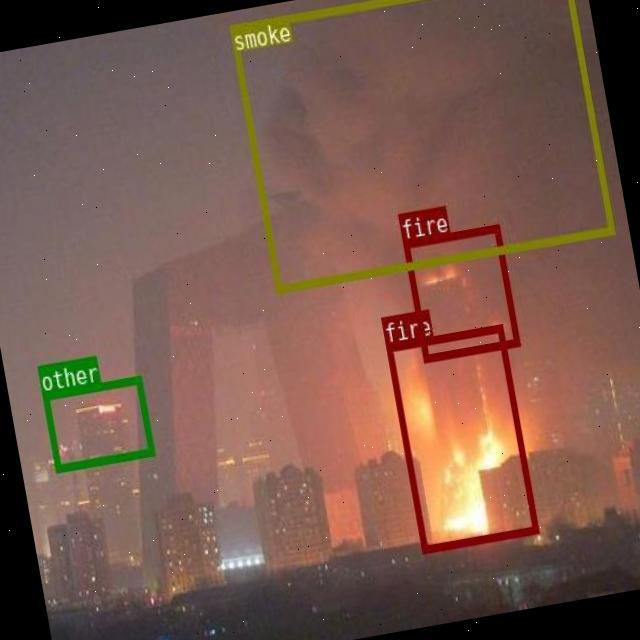fire: (385, 323, 537, 552), (401, 223, 518, 361)
smoke: (228, 0, 613, 291)
